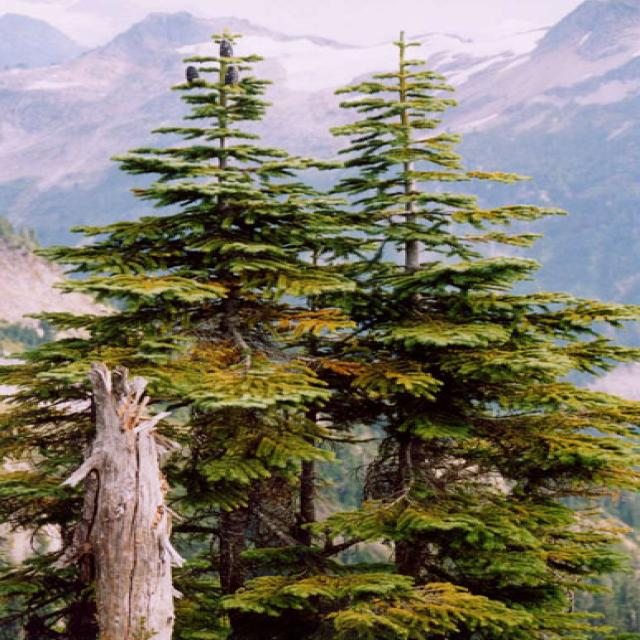Abies: (0, 21, 640, 640)
